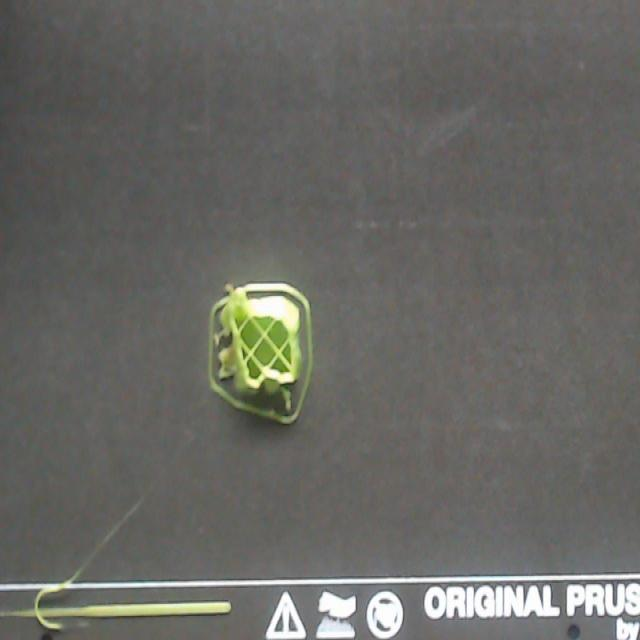mistake: (32, 568, 230, 631), (218, 385, 292, 421), (220, 350, 237, 374), (617, 623, 638, 639), (215, 332, 231, 344), (224, 285, 238, 294)
